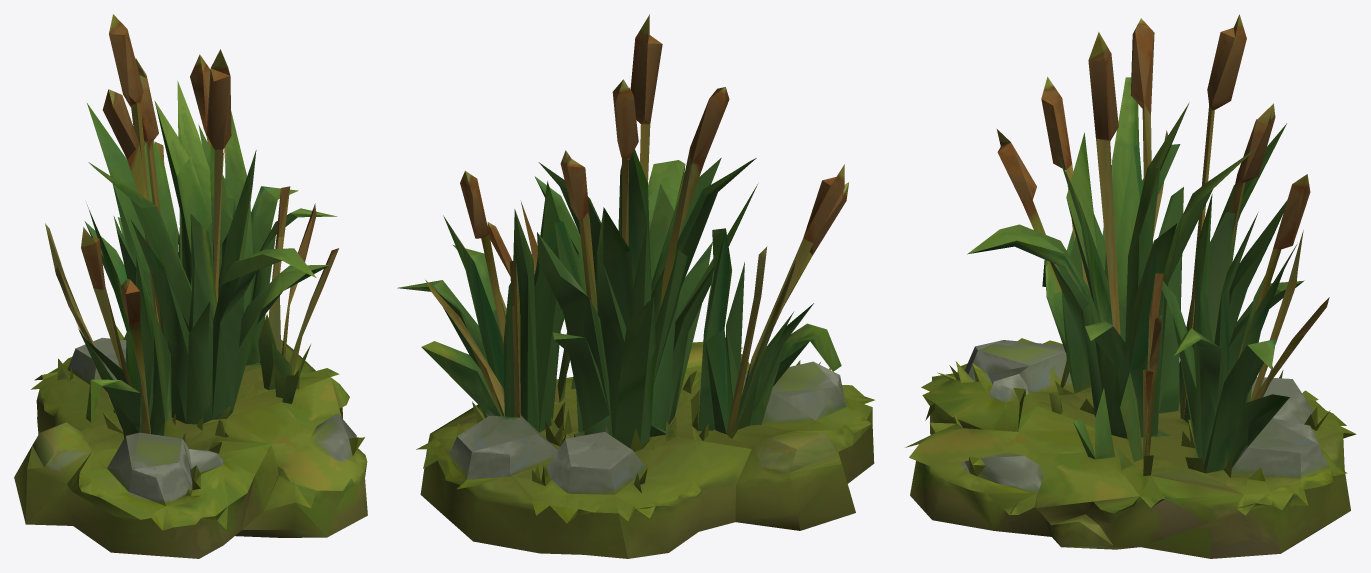
The picture shows the model from 3 angles, left to right: view 1: azimuth 30°, elevation 25°; view 2: azimuth 150°, elevation 25°; view 3: azimuth 270°, elevation 25°; orthographic projection. The views are drawn at different scales.
Visible parts, largest first — view 1: reeds; view 2: reeds; view 3: reeds.
Boxes of the visible parts, box(x1,y1,x2,y2) form: reeds: box(14, 14, 367, 558); reeds: box(397, 14, 874, 558); reeds: box(905, 14, 1356, 558).
Size of the model in its own units: 0.8484 by 0.9851 by 0.8806.
1 material, 1 textured.
